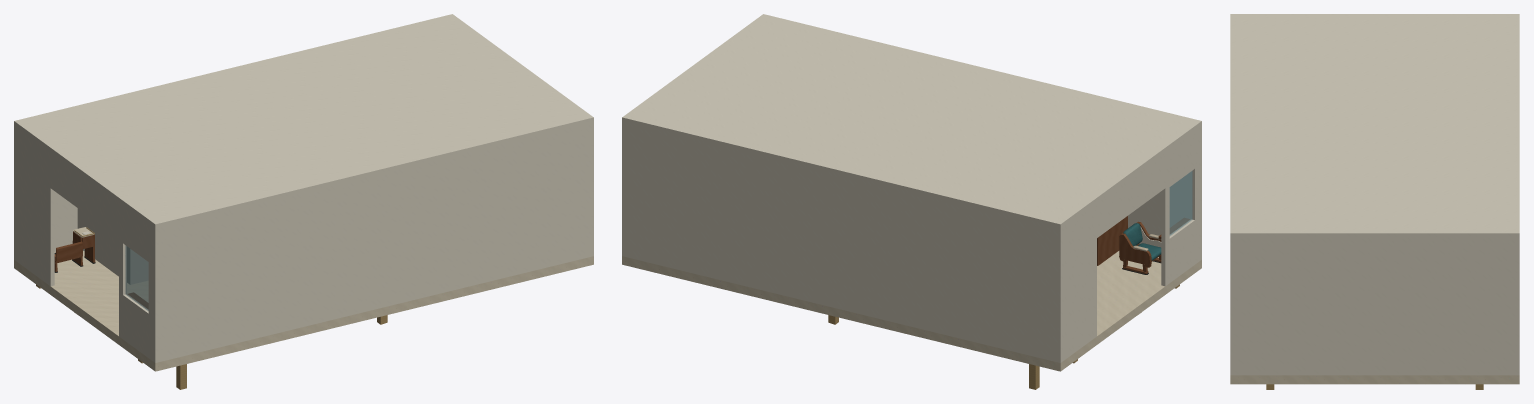
The model's file is NightGardenD15Specialty_548_r002.glb.
3 renders of one model, left to right at view 1: azimuth 30°, elevation 25°; view 2: azimuth 150°, elevation 25°; view 3: azimuth 270°, elevation 25°, orthographic. The views are drawn at different scales.
Visible parts, largest first — view 1: NG548_RuntimeBatch_001, NG548_RoomFloor, NG548_ScreenedStreetGlass, NG548_RuntimeBatch_013; view 2: NG548_RuntimeBatch_001, NG548_RoomFloor, NG548_ScreenedStreetGlass, NG548_RuntimeBatch_028, NG548_RuntimeBatch_002; view 3: NG548_RuntimeBatch_001, NG548_RoomFloor.
Boxes of the visible parts, x1,y1,x2,y2 form: NG548_RuntimeBatch_001: (14, 14, 593, 362); NG548_RoomFloor: (14, 250, 593, 371); NG548_ScreenedStreetGlass: (125, 245, 148, 310); NG548_RuntimeBatch_013: (54, 231, 95, 271); NG548_RuntimeBatch_001: (622, 14, 1201, 362); NG548_RoomFloor: (622, 251, 1201, 371); NG548_ScreenedStreetGlass: (1169, 171, 1192, 235); NG548_RuntimeBatch_028: (1119, 221, 1161, 274); NG548_RuntimeBatch_002: (1097, 216, 1190, 265); NG548_RuntimeBatch_001: (1230, 14, 1519, 375); NG548_RoomFloor: (1230, 375, 1519, 384).
Size of the model in its own units: 12.9 by 5.31 by 7.2.
79 materials, 49 textured.
